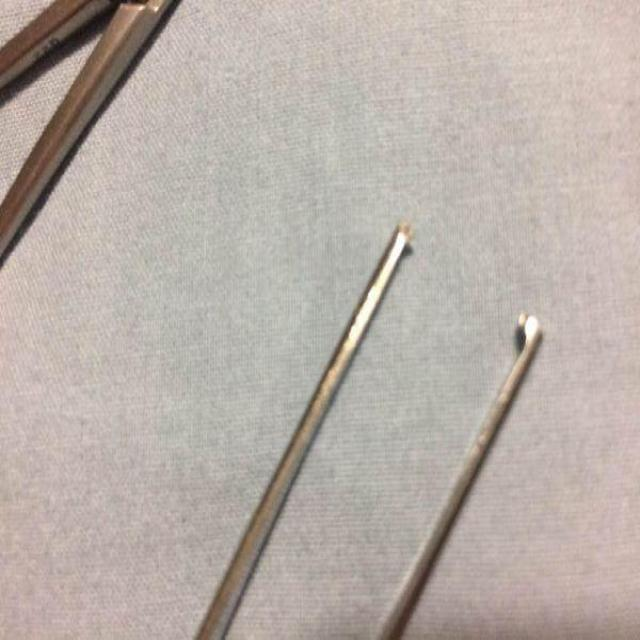Forceps: (196, 213, 547, 640)
